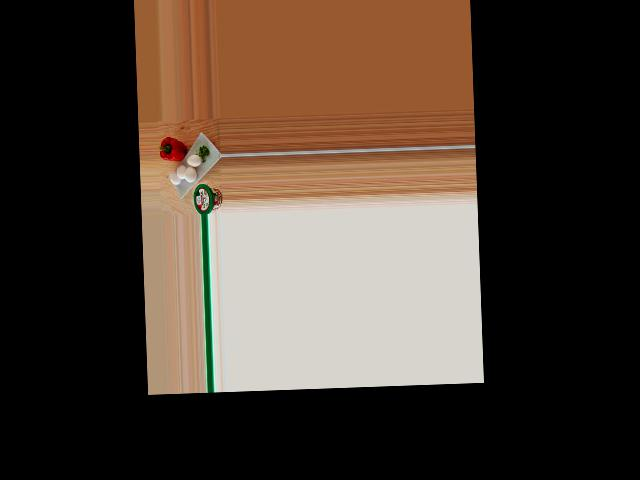bell_pepper: (159, 134, 186, 166)
